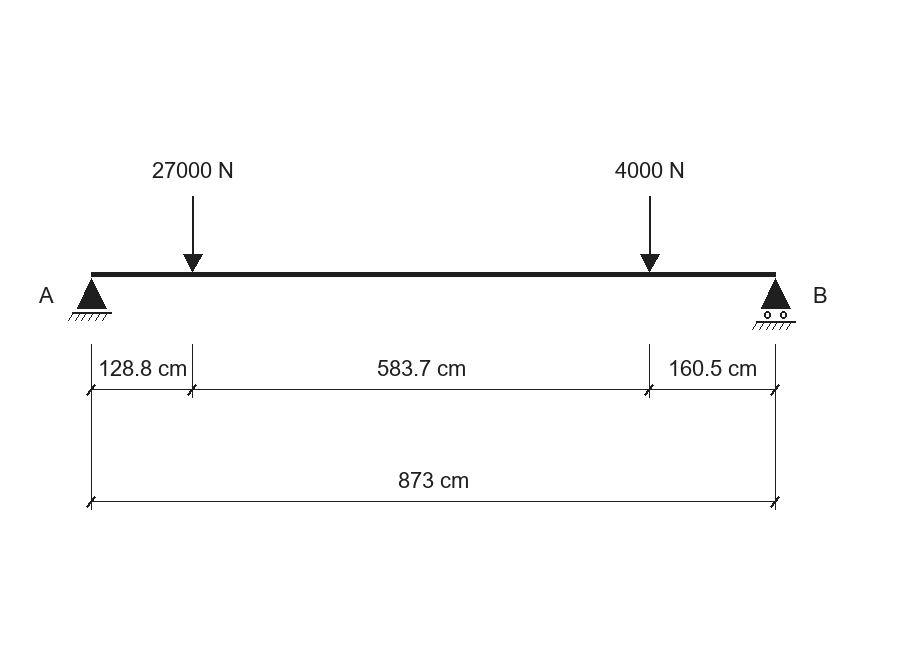pin_support: (68, 278, 112, 321)
point_load: (183, 196, 203, 272), (640, 196, 660, 272)
roller_support: (752, 278, 796, 330)
